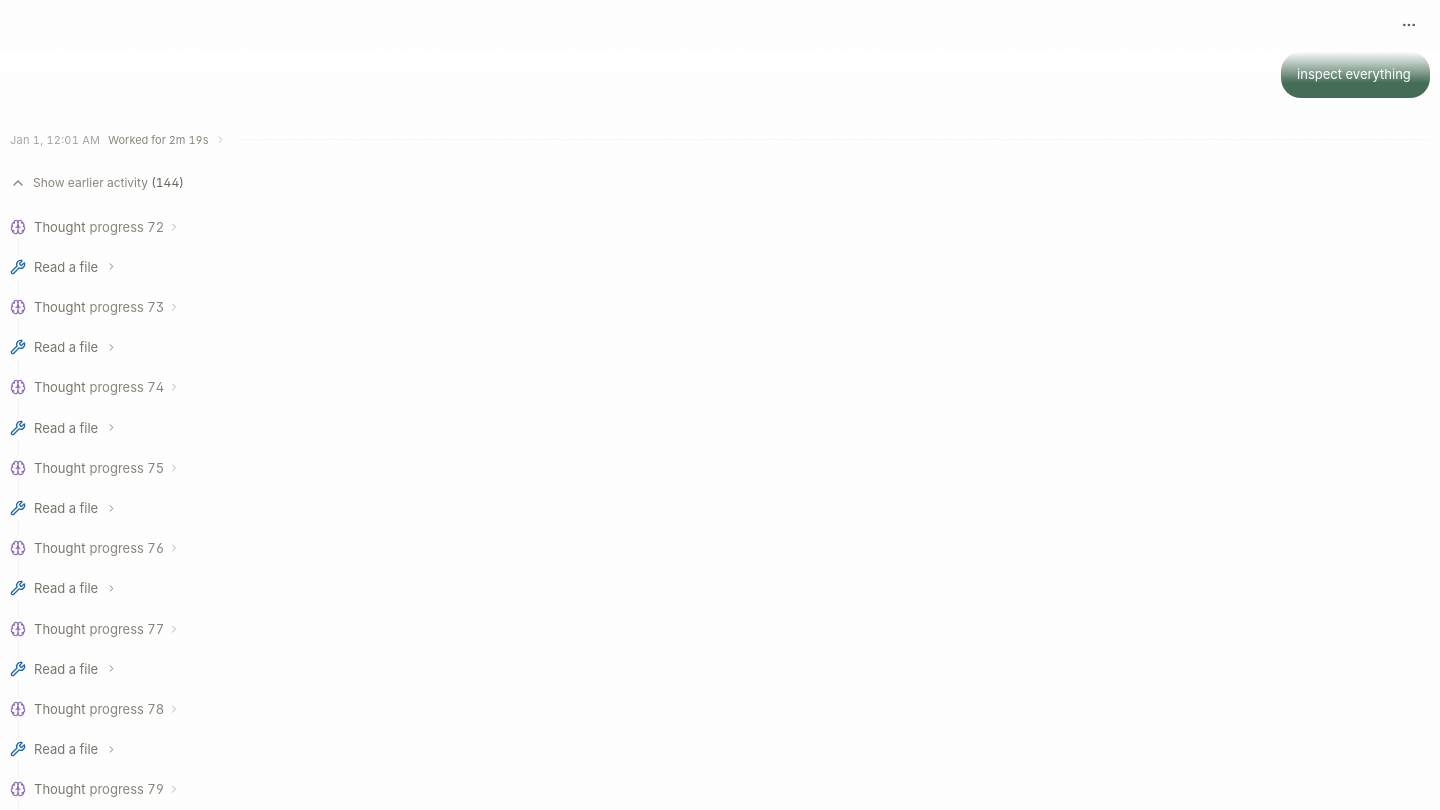
Scenario: SessionConversation — render window › bounds nested activity inside one giant turn without inventing turns
Click the button "Worked for 2m 19s" at {"x": 170, "y": 140}, box [108, 132, 232, 148]
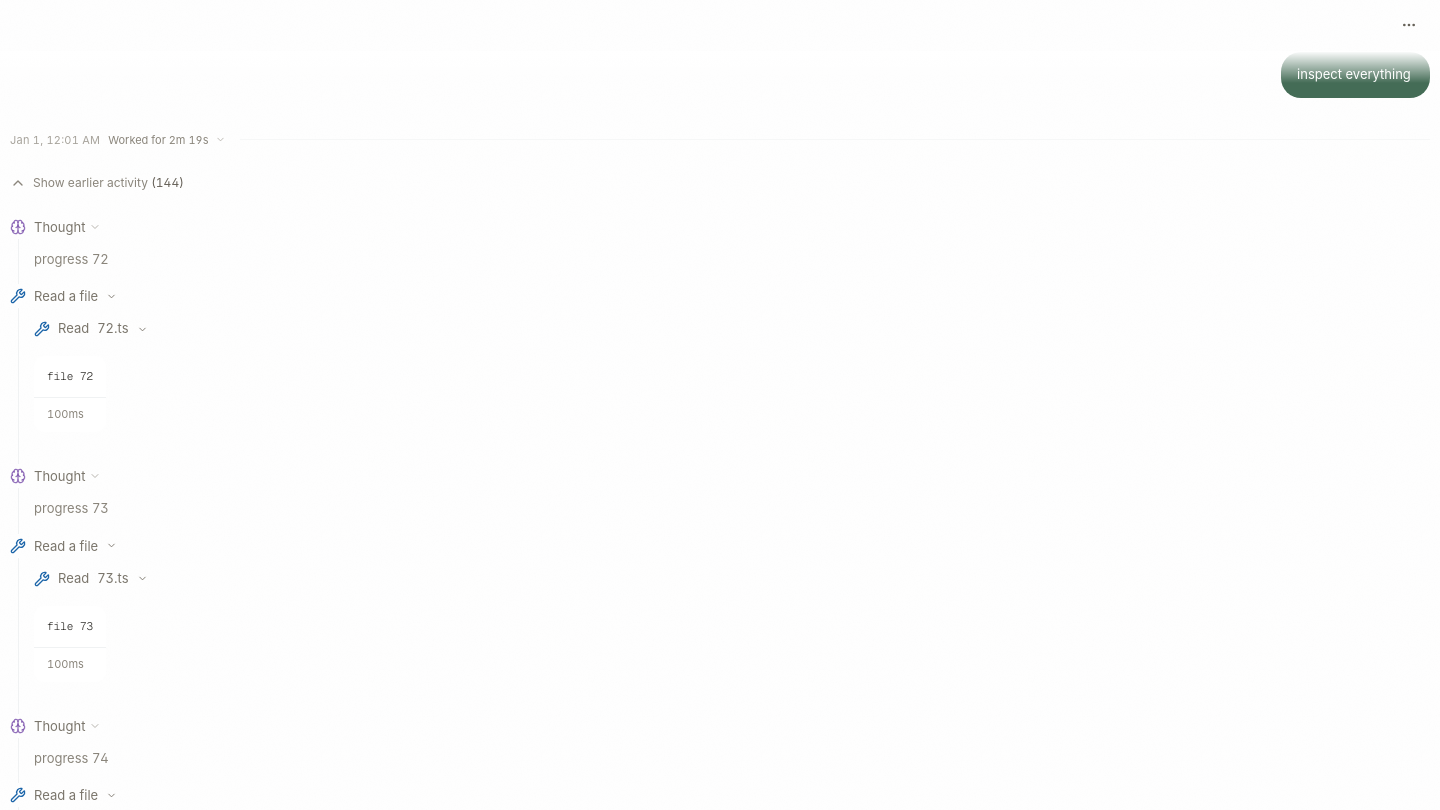
Click the button "Show earlier activity (144)" at {"x": 70, "y": 182}, box [10, 170, 1430, 197]
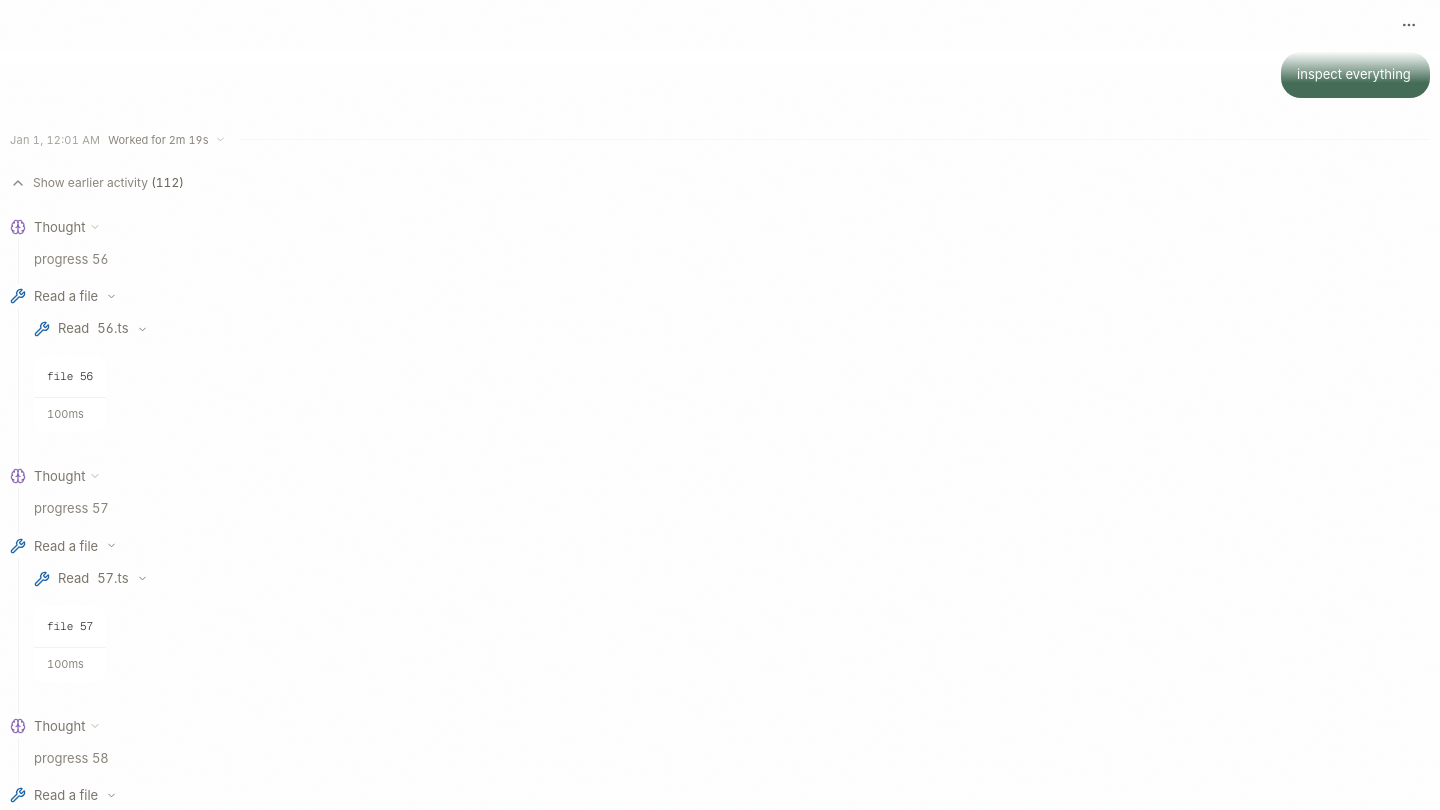
Now the button "Read 56.ts" is shown, box [34, 314, 1430, 344]
